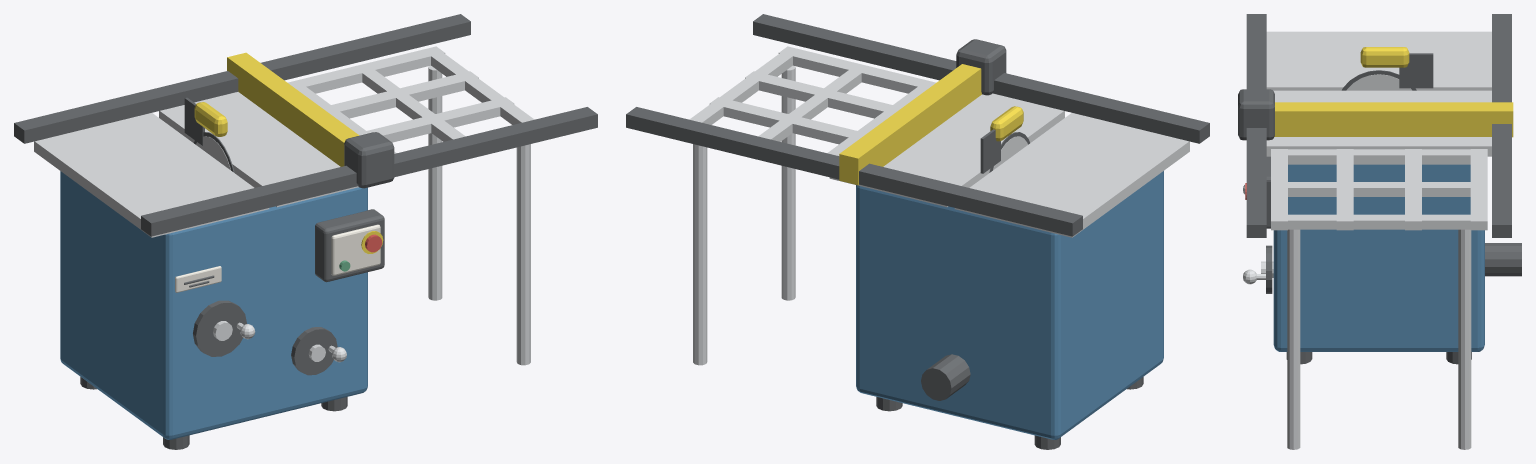
File: woodworking-workshop-and-joinery-woodworking-workshop--0fb1799a__34239.glb
3 views of the same model, side by side, from view 1: azimuth 30°, elevation 25°; view 2: azimuth 150°, elevation 25°; view 3: azimuth 270°, elevation 25° (orthographic). The views are drawn at different scales.
Visible parts, largest first — view 1: woodworking-workshop-and-joinery-table-saw-with-extension; view 2: woodworking-workshop-and-joinery-table-saw-with-extension; view 3: woodworking-workshop-and-joinery-table-saw-with-extension, blade-spin/steel, blade-spin/charcoal.
Part boxes in pixels (box(x1,y1,x2,y2)): woodworking-workshop-and-joinery-table-saw-with-extension: box(14, 14, 597, 449); woodworking-workshop-and-joinery-table-saw-with-extension: box(626, 14, 1209, 449); woodworking-workshop-and-joinery-table-saw-with-extension: box(1238, 14, 1521, 449); blade-spin/steel: box(1346, 74, 1411, 90); blade-spin/charcoal: box(1342, 70, 1416, 90).
Bounding box in the file's own units: 1.75 × 1.06 × 0.995.
